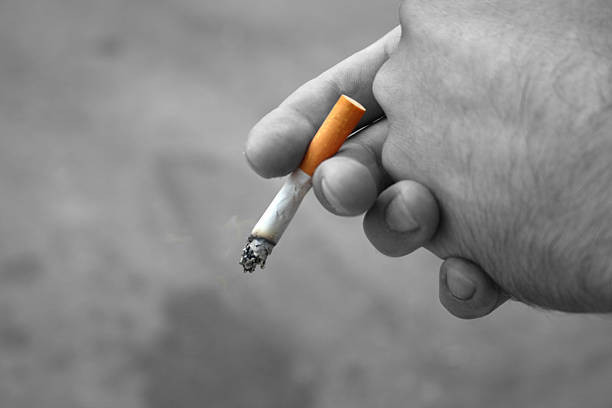cigarette: (238, 94, 369, 271)
